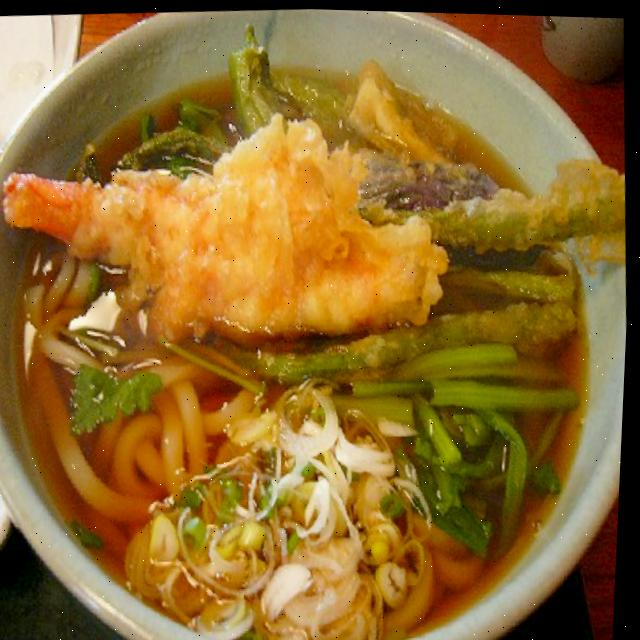面条主食: (0, 22, 616, 640)
